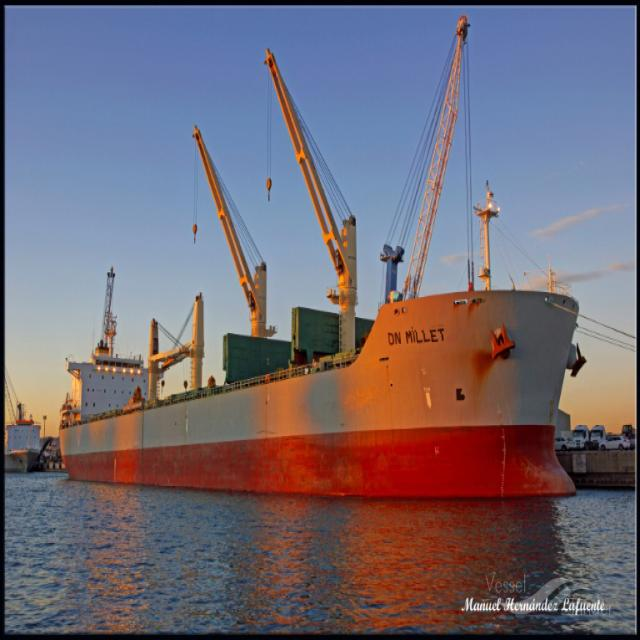OCR: (382, 318, 458, 352)
